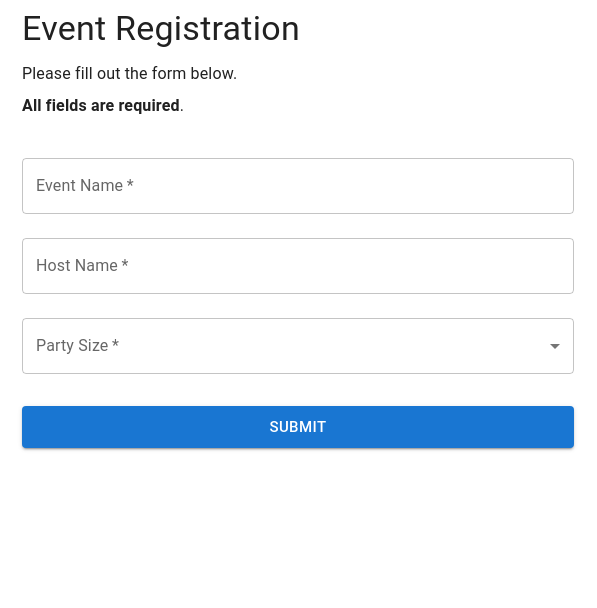
Scenario: DynamicForm › Single-page form (backwards compatibility) › renders conditional checkbox when condition is met
Open the select dropdown and choose '21-50'
Click the dropdown named "Party Size": (298, 346) [22,318,574,374]
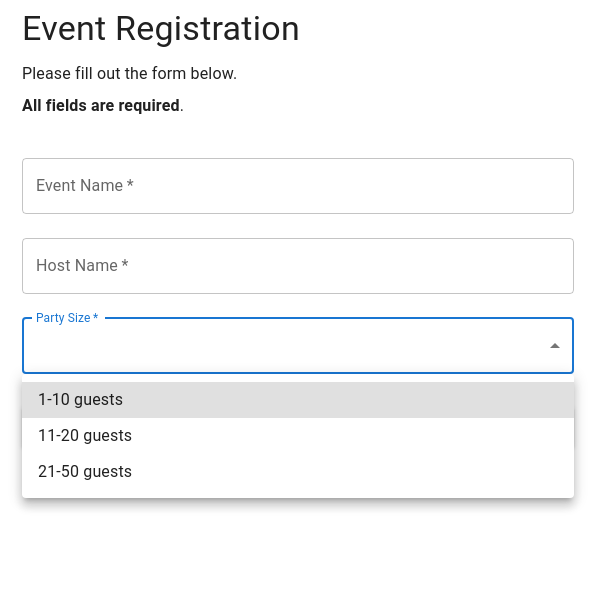
Click the option "21-50 guests": (85, 472) [38,462,132,481]
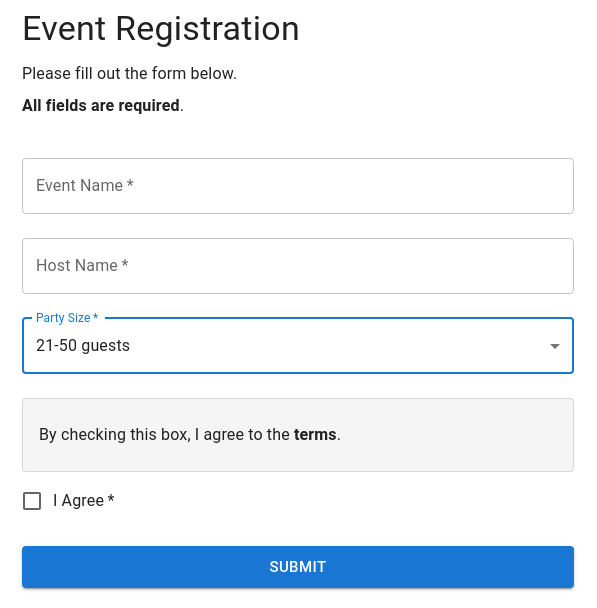
Expected: the checkbox labelled "I Agree *" is shown, [20,489,114,513]
